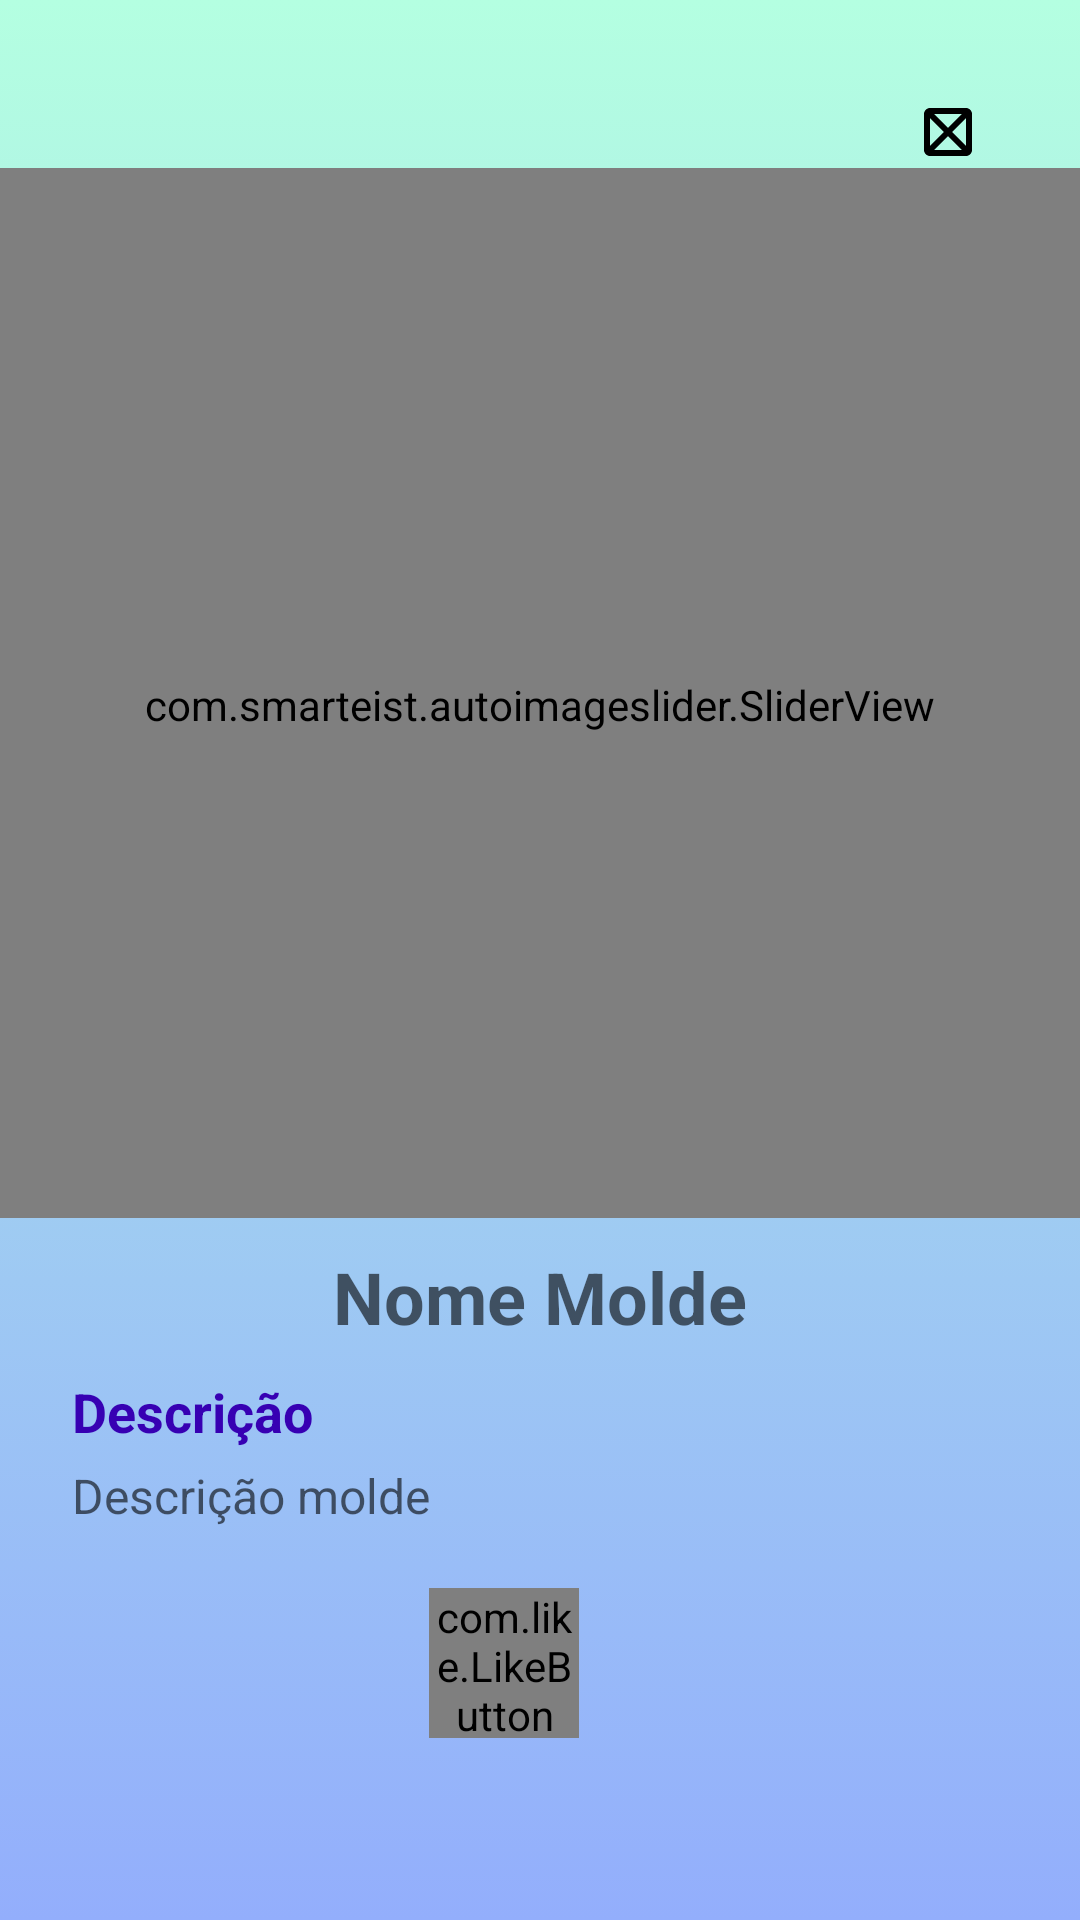

Icon click points for this 1080w x 1920h phone screenshot, format [x,y]:
close: [948,132]
